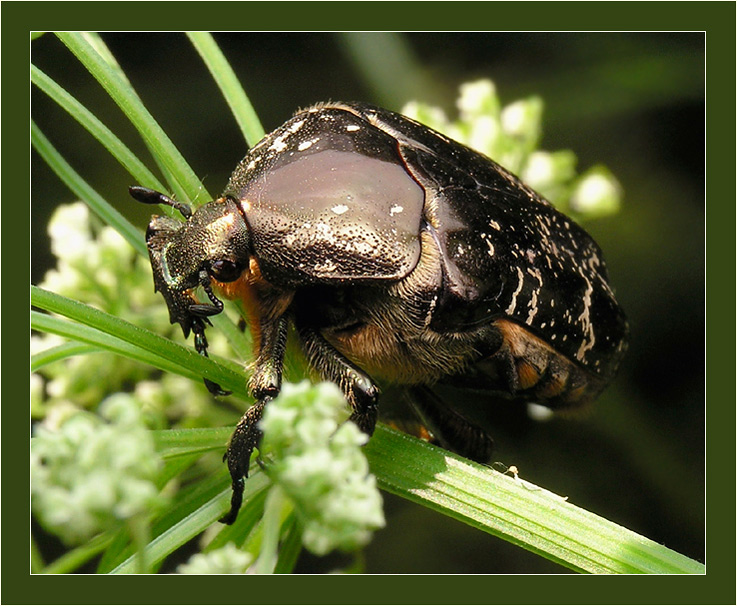Protaetia_lugubris: (126, 91, 631, 531)
